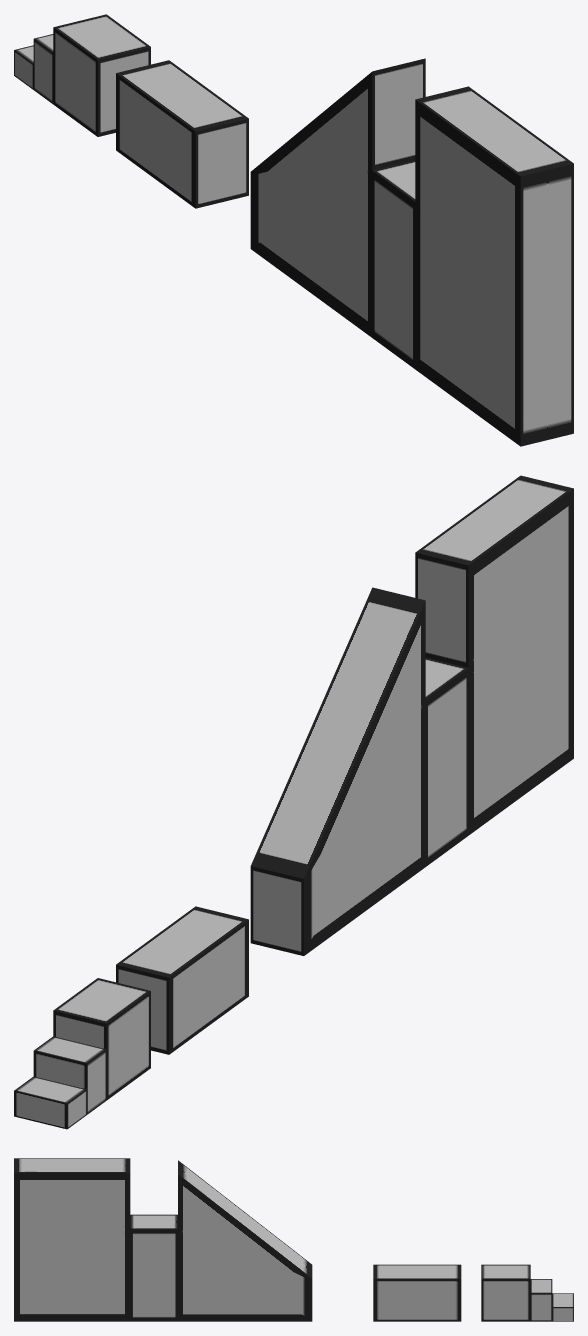
The model's file is boxes.obj.
3 views of the same model, one above another, from view 1: azimuth 30°, elevation 25°; view 2: azimuth 150°, elevation 25°; view 3: azimuth 270°, elevation 25° (orthographic). The views are drawn at different scales.
Parts seen in each view (by area): view 1: polySurface6; view 2: polySurface6; view 3: polySurface6.
Part boxes in pixels (x1,y1,x2,y2): polySurface6: (14, 14, 573, 446); polySurface6: (14, 475, 573, 1129); polySurface6: (14, 1158, 573, 1321).
Bounding box in the file's own units: 141 × 682 × 2320.
Materials: 1 (1 with a texture image).
